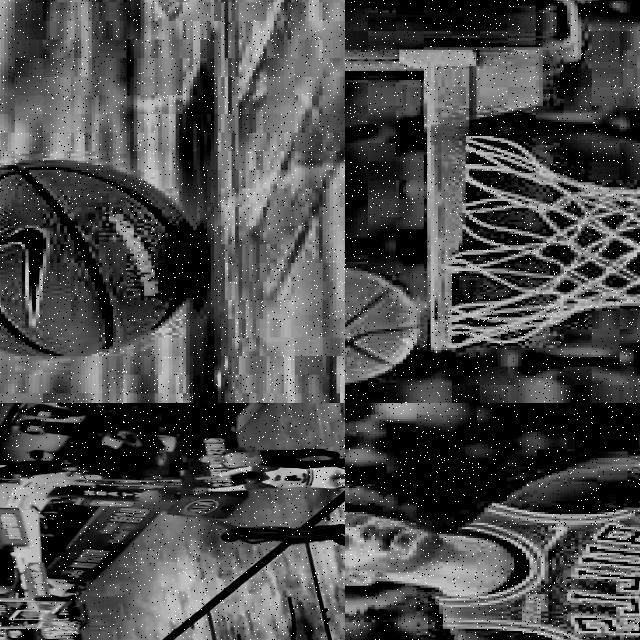Basketball: (0, 162, 197, 357), (345, 269, 420, 385), (136, 488, 163, 501)
